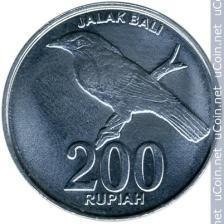coin_200_e2003: (0, 1, 210, 224)
